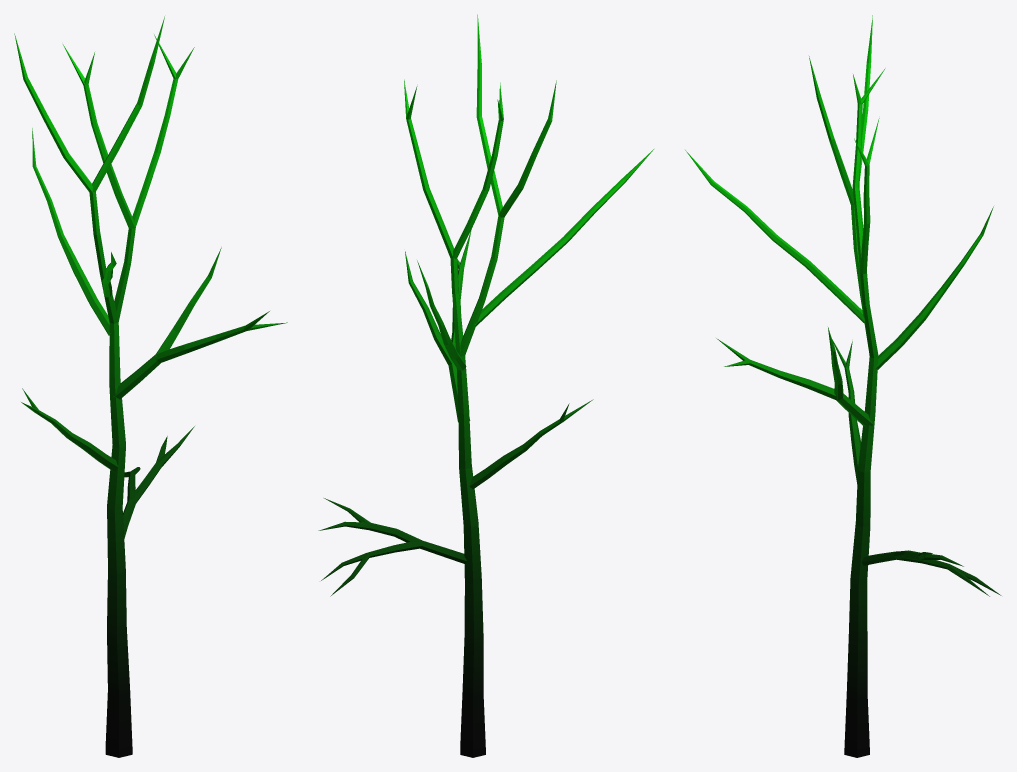
The model's file is SM_Tree_Dead_01.fbx.
3 views of the same model, side by side, from view 1: azimuth 30°, elevation 25°; view 2: azimuth 150°, elevation 25°; view 3: azimuth 270°, elevation 25° (orthographic). The views are drawn at different scales.
Visible parts, largest first — view 1: SM_Tree_Dead_01; view 2: SM_Tree_Dead_01; view 3: SM_Tree_Dead_01.
Boxes of the visible parts, x1,y1,x2,y2 form: SM_Tree_Dead_01: [14, 16, 287, 757]; SM_Tree_Dead_01: [318, 14, 653, 757]; SM_Tree_Dead_01: [685, 15, 1001, 757].
Bounding box in the file's own units: 193 × 598 × 244.
